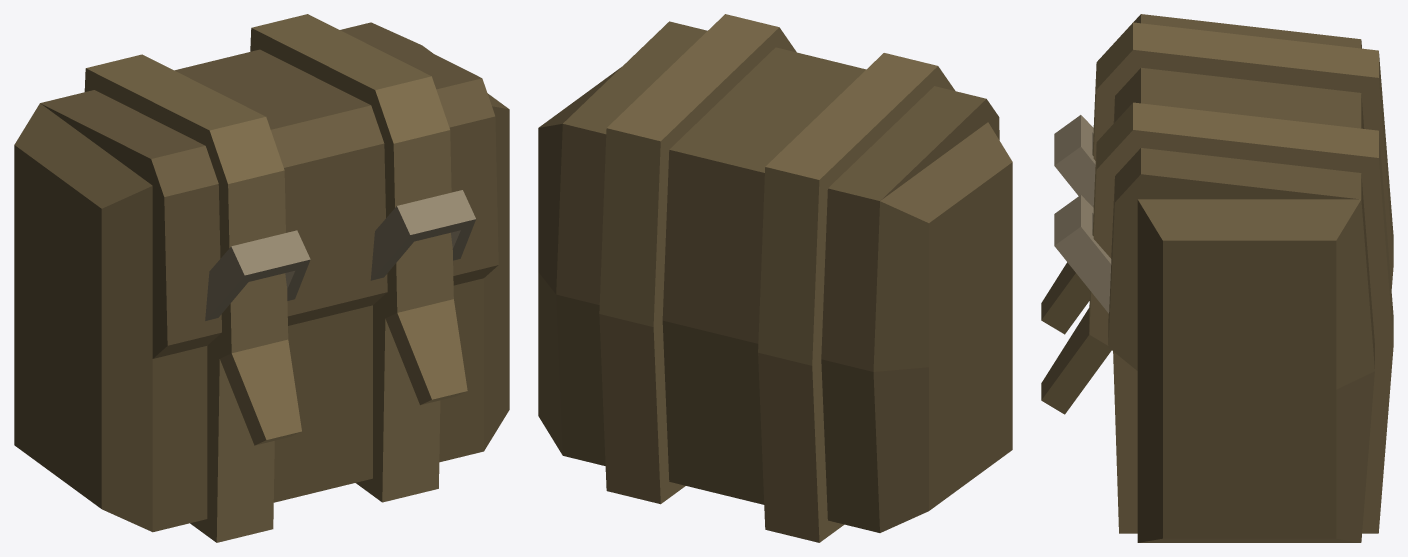
File: Bag_3.fbx
The picture shows the model from 3 angles, left to right: view 1: azimuth 30°, elevation 25°; view 2: azimuth 150°, elevation 25°; view 3: azimuth 270°, elevation 25°; orthographic projection. The views are drawn at different scales.
Parts seen in each view (by area): view 1: Bag_3; view 2: Bag_3; view 3: Bag_3.
Boxes of the visible parts, x1,y1,x2,y2 form: Bag_3: (14, 14, 509, 542); Bag_3: (538, 14, 1012, 542); Bag_3: (1041, 14, 1393, 542).
Bounding box in the file's own units: 18.12 × 17.29 × 13.69.
